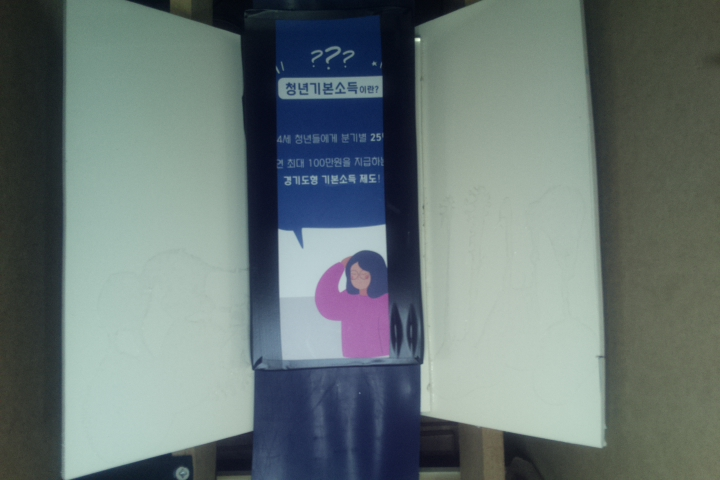book: (240, 8, 424, 375)
